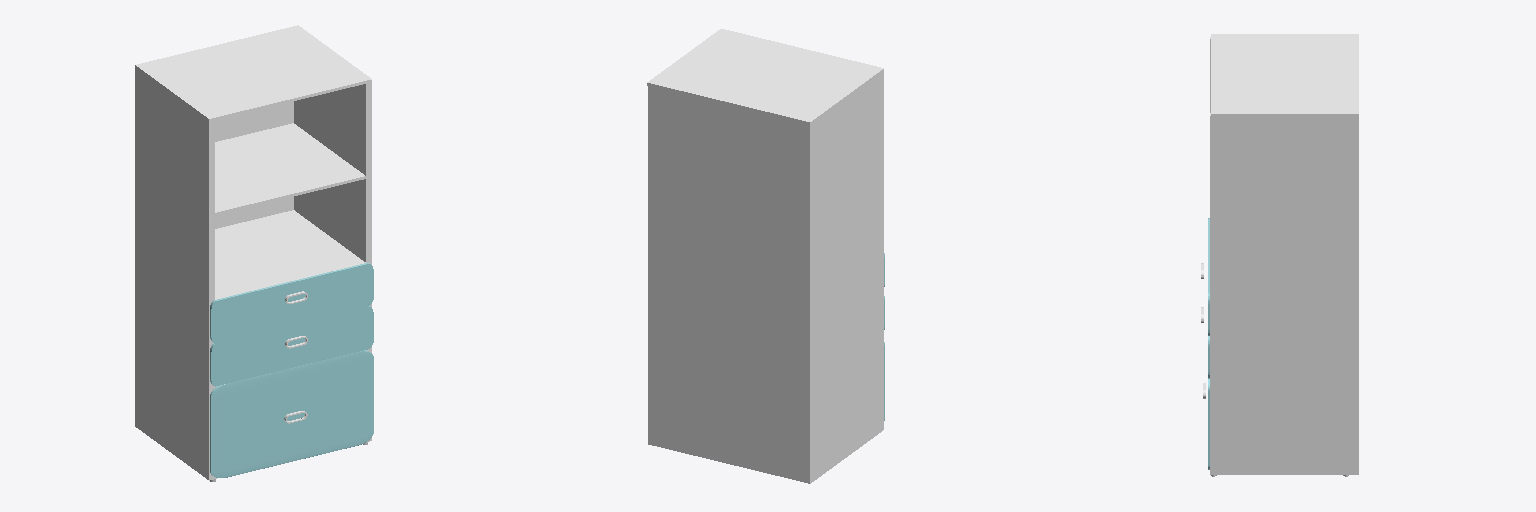
File: StorageFurniture_StuvaFritidsBookcaseBlue.obj
The picture shows the model from 3 angles: view 1: azimuth 30°, elevation 25°; view 2: azimuth 150°, elevation 25°; view 3: azimuth 270°, elevation 25°; orthographic projection.
Visible parts, largest first — view 1: obj_0; view 2: obj_0; view 3: obj_0.
Part boxes in pixels (bbox=[...]): obj_0: bbox=[135, 25, 373, 481]; obj_0: bbox=[647, 29, 884, 483]; obj_0: bbox=[1201, 34, 1358, 476].
Bounding box in the file's own units: 60 × 128 × 50.